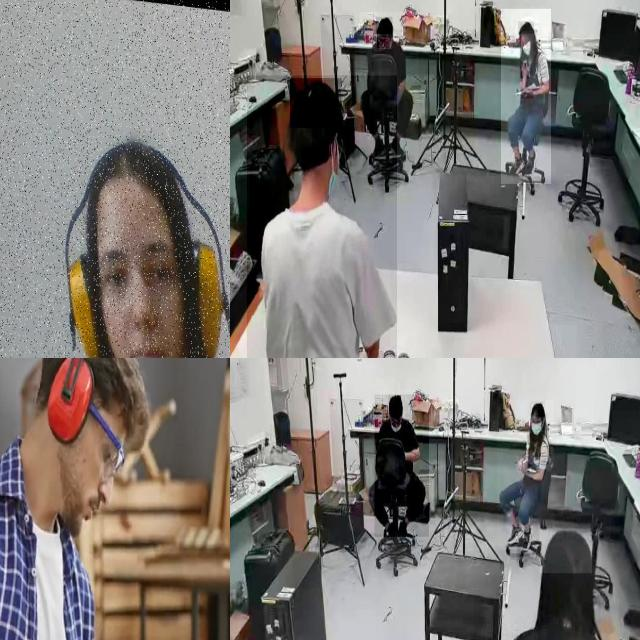Ear-protection: (50, 105, 230, 358), (39, 358, 94, 447)
face_mask: (522, 31, 534, 63), (530, 418, 544, 442)
face_nomask: (377, 35, 390, 49)
glasses: (87, 395, 123, 491)
hand_noglove: (520, 61, 530, 79), (516, 456, 524, 473), (522, 88, 534, 99)
head_nohelmet: (290, 78, 342, 129), (540, 529, 592, 574), (376, 17, 393, 35), (530, 400, 546, 418), (518, 21, 534, 35), (388, 394, 402, 410)
person: (0, 358, 152, 640), (246, 75, 397, 358), (474, 515, 640, 640), (359, 12, 419, 178), (501, 9, 551, 185), (497, 400, 555, 546), (374, 394, 430, 538)
shoes: (505, 522, 525, 548), (390, 136, 408, 164), (370, 134, 386, 164), (509, 152, 525, 181), (524, 147, 536, 177)
